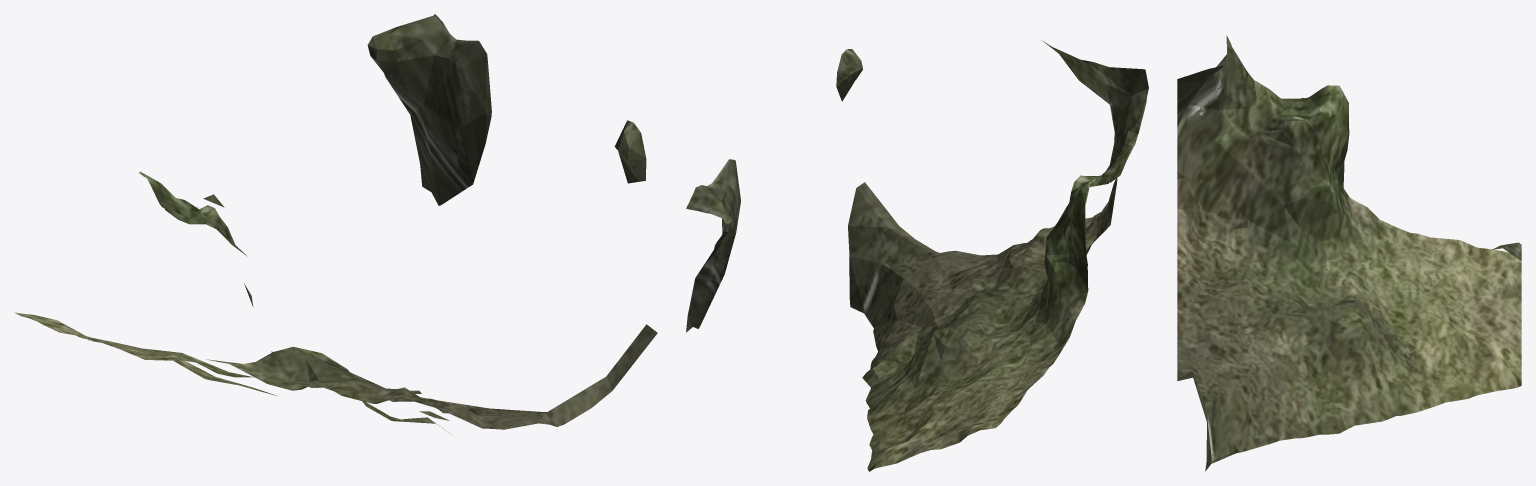
3 renders of one model, left to right at view 1: azimuth 30°, elevation 25°; view 2: azimuth 150°, elevation 25°; view 3: azimuth 270°, elevation 25°, orthographic. The views are drawn at different scales.
Size of the model in its own units: 2.95 by 2.95 by 2.95.
Materials: 3 (3 with a texture image).
